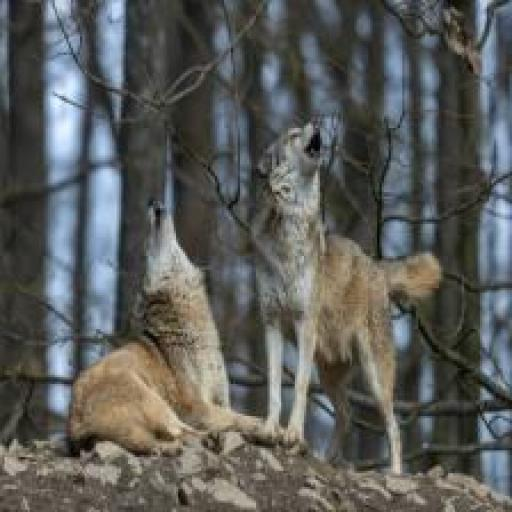wolf: (251, 96, 464, 493), (46, 174, 226, 467)
